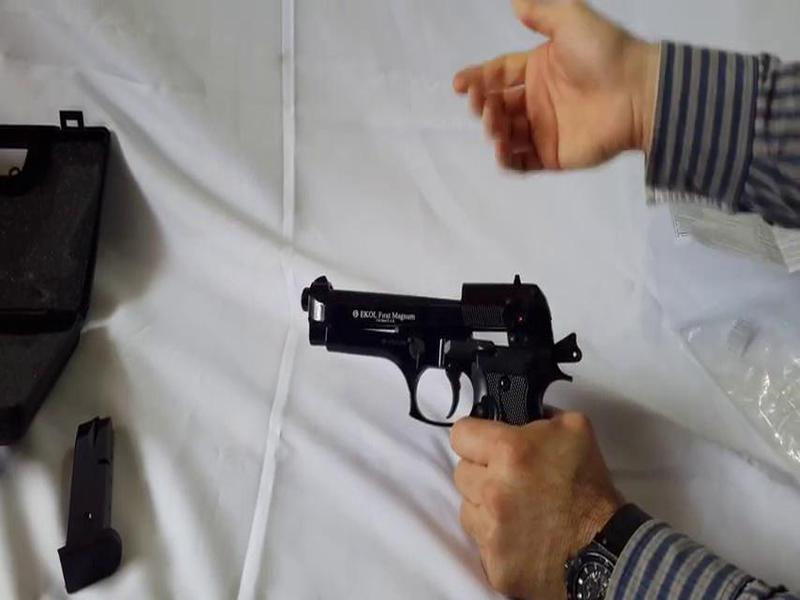Pistola: (287, 262, 598, 463)
